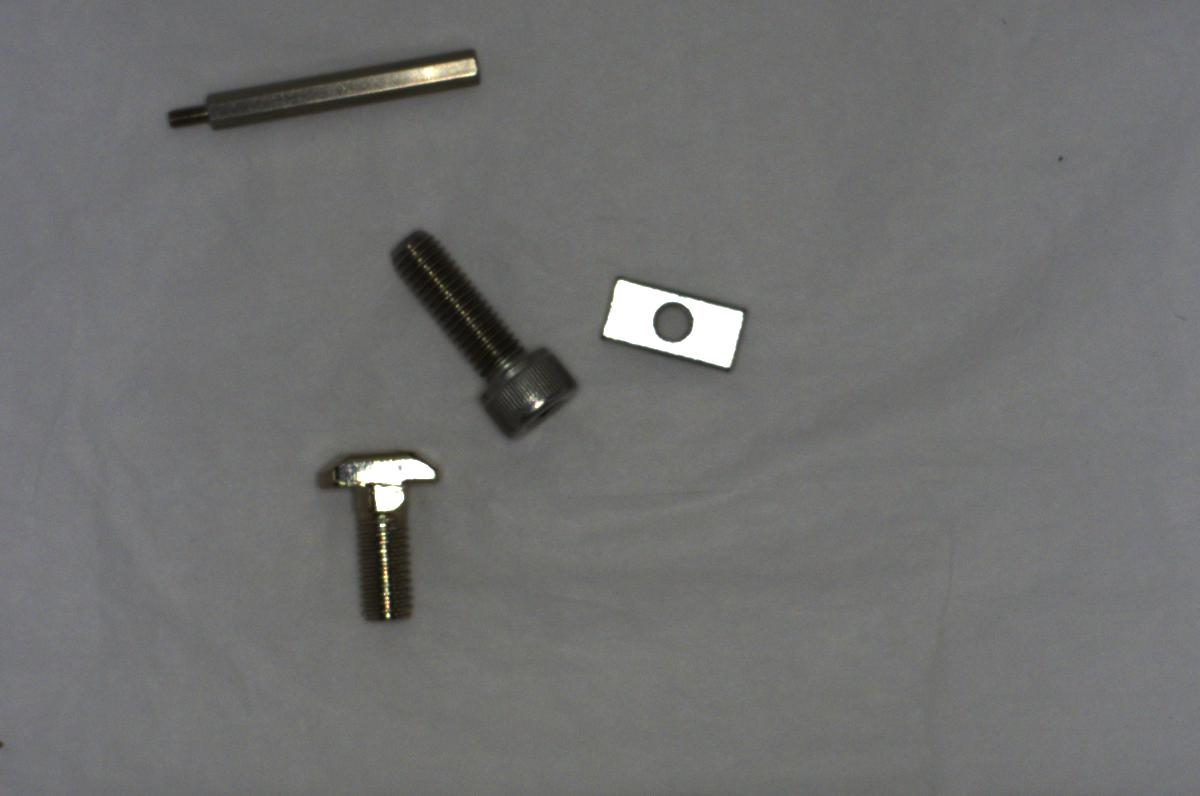Hexagon screw: (382, 226, 577, 436)
Hexagonal steel column: (159, 45, 487, 140)
Rectangular nut: (597, 275, 754, 370)
T-shaped screw: (311, 440, 444, 640)
